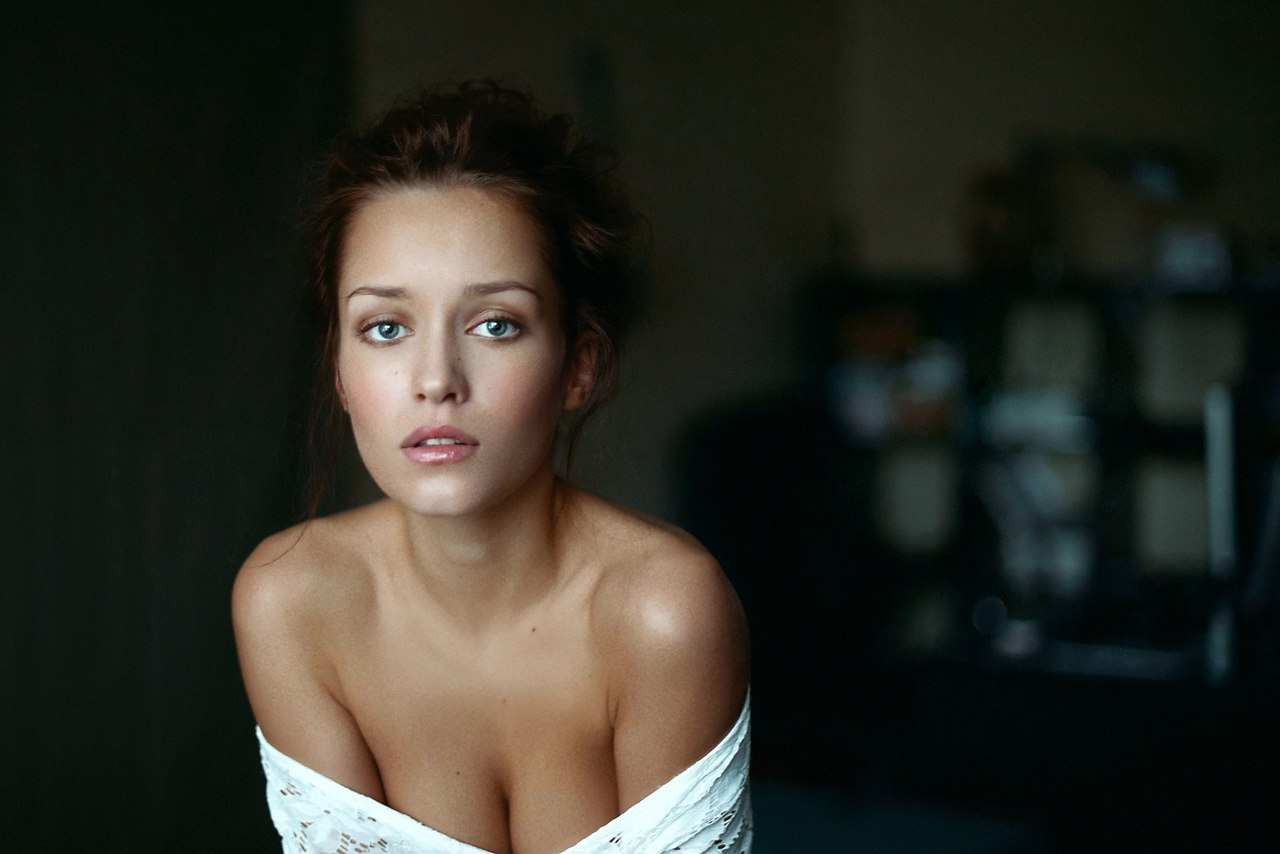bare: (334, 354, 568, 510)
